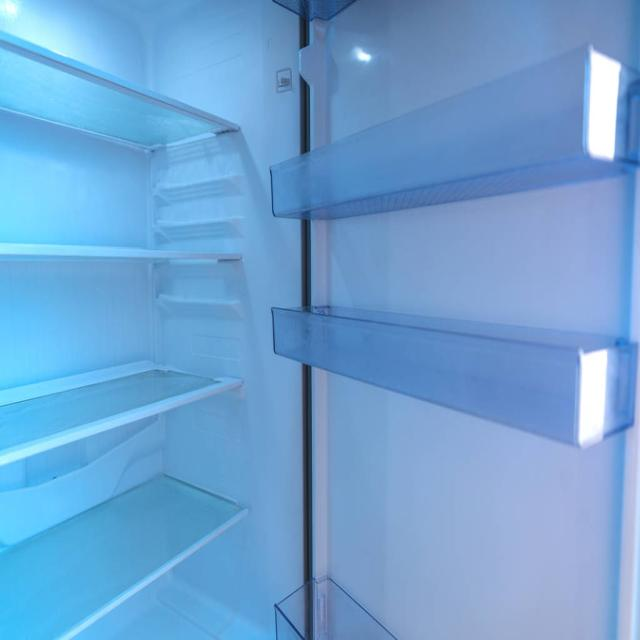fridge-space: (1, 164, 209, 251), (1, 516, 82, 636), (151, 452, 232, 550), (105, 327, 209, 396), (0, 357, 101, 424), (86, 494, 148, 592)
